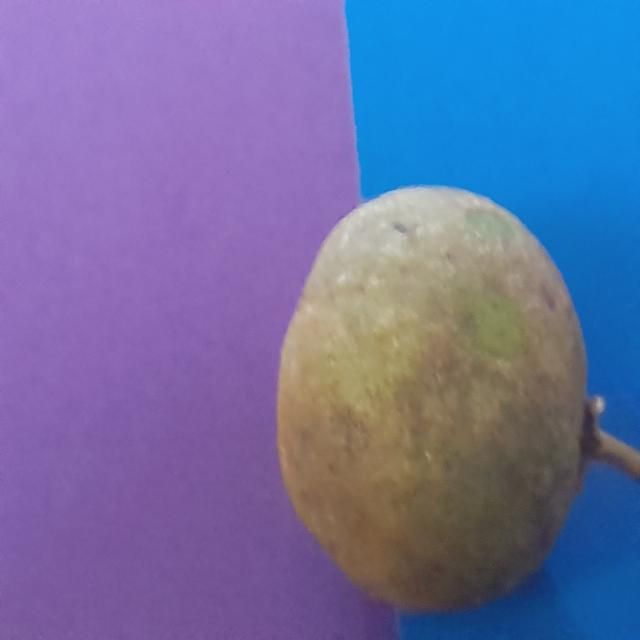thrips: (280, 188, 605, 610)
